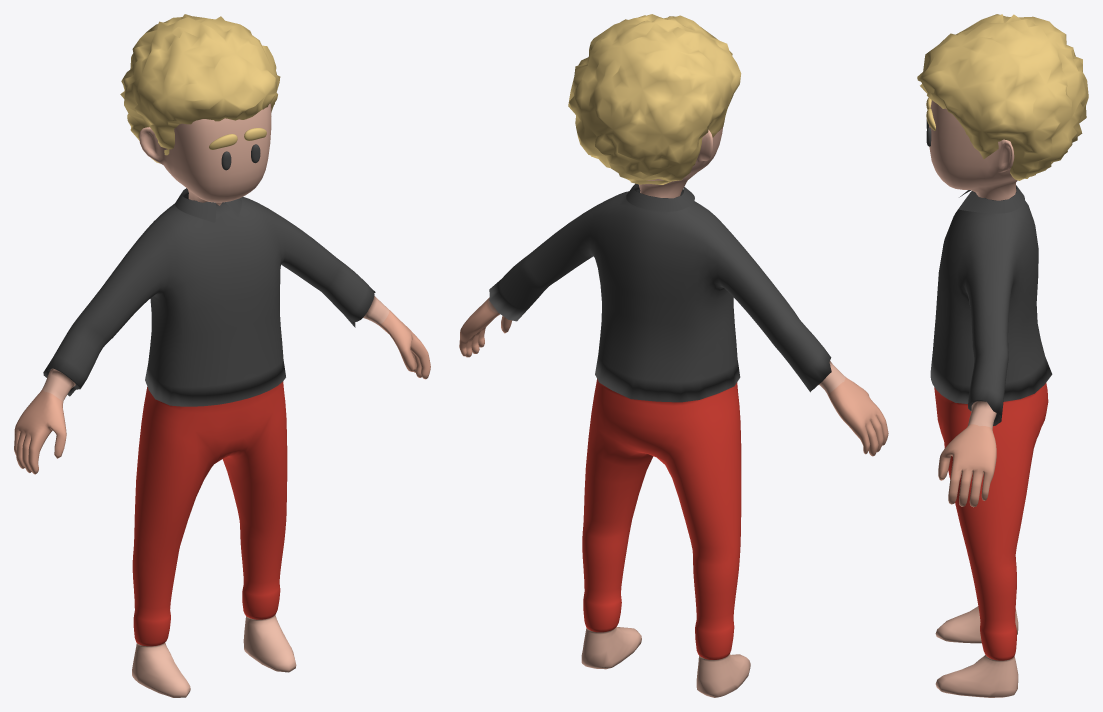
3 renders of one model, left to right at view 1: azimuth 30°, elevation 25°; view 2: azimuth 150°, elevation 25°; view 3: azimuth 270°, elevation 25°, orthographic. The views are drawn at different scales.
Visible parts, largest first — view 1: Head_001; view 2: Head_001; view 3: Head_001.
Part boxes in pixels (x1,y1,x2,y2): Head_001: (14, 14, 430, 697); Head_001: (459, 14, 888, 697); Head_001: (917, 14, 1088, 697).
Bounding box in the file's own units: 248 × 378 × 91.4.
